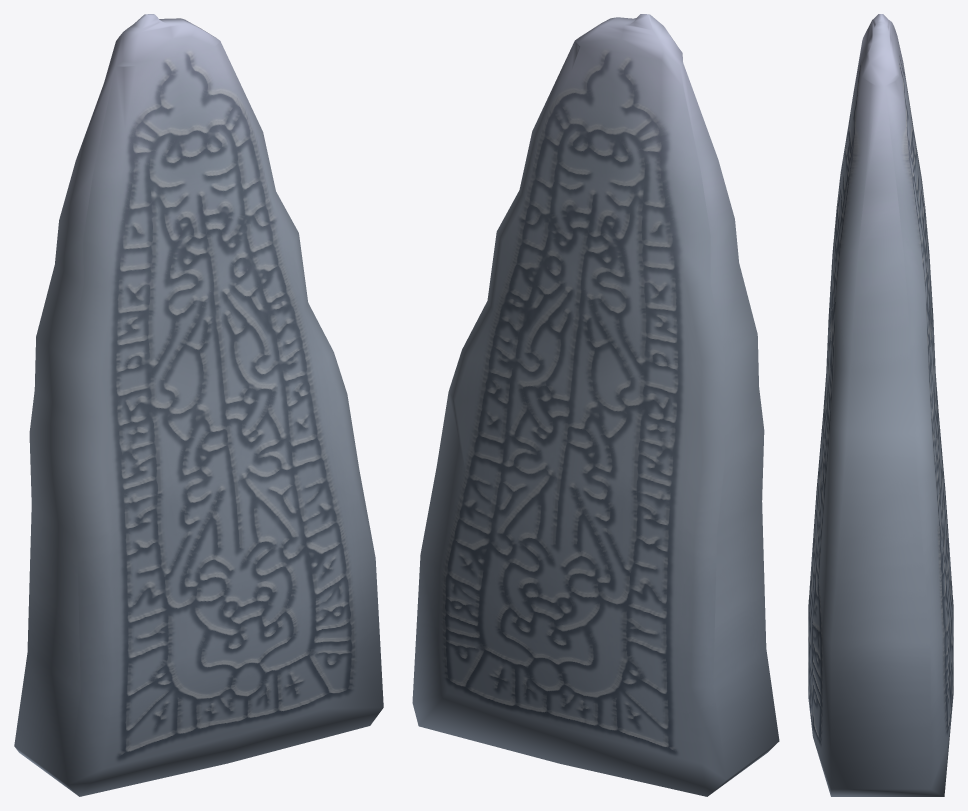
File: Memorial_1.fbx
3 renders of one model, left to right at view 1: azimuth 30°, elevation 25°; view 2: azimuth 150°, elevation 25°; view 3: azimuth 270°, elevation 25°, orthographic. The views are drawn at different scales.
Visible parts, largest first — view 1: 1; view 2: 1; view 3: 1.
Boxes of the visible parts, left/top/right/bottom form: 1: left=14, top=14, right=383, bottom=796; 1: left=412, top=14, right=779, bottom=796; 1: left=808, top=14, right=953, bottom=796.
Bounding box in the file's own units: 155 × 346 × 65.68.
